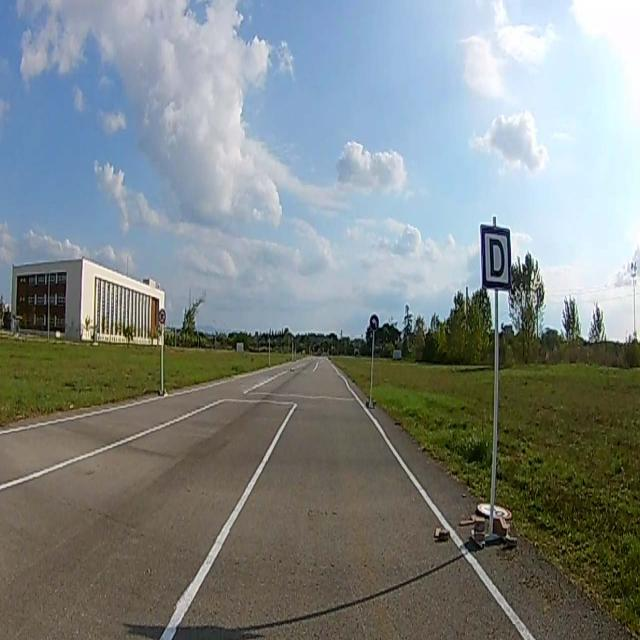durak: (482, 222, 512, 288)
